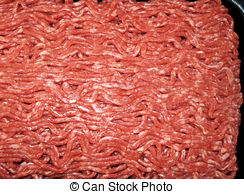ground_beef: (1, 4, 234, 174)
